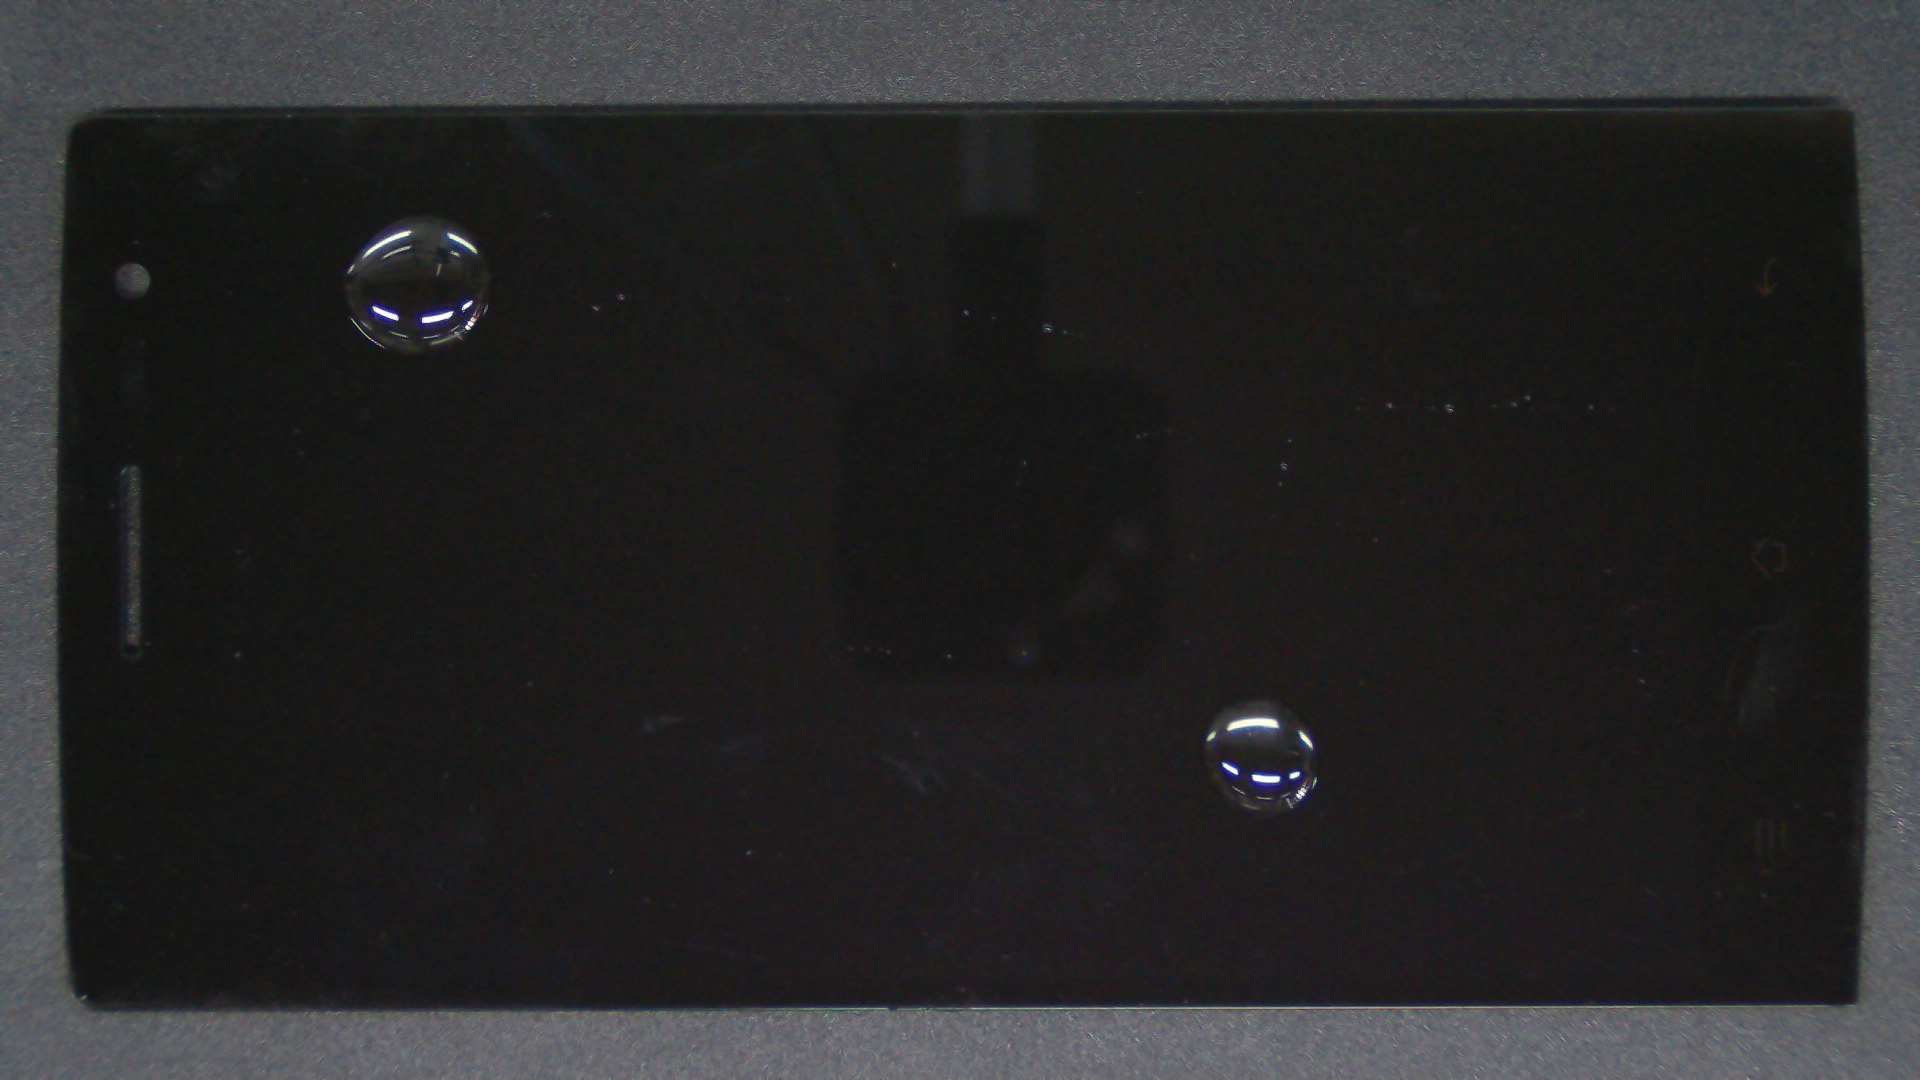defect: (339, 215, 492, 355), (1203, 702, 1319, 814)
